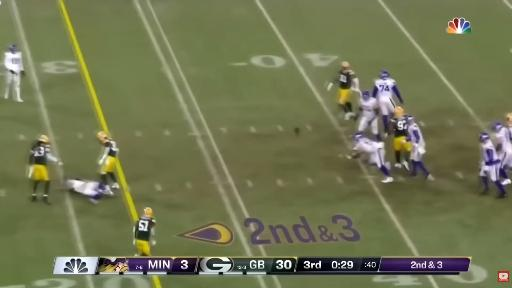Helmet: (94, 131, 108, 143), (393, 107, 405, 121), (377, 71, 390, 82), (478, 133, 490, 144), (144, 208, 155, 218), (340, 63, 351, 73), (37, 136, 50, 144), (492, 123, 502, 133), (362, 91, 371, 102), (354, 132, 363, 141), (9, 45, 19, 53), (507, 111, 511, 125)
Jersey: (354, 138, 385, 167), (480, 140, 500, 181), (30, 142, 55, 165), (134, 216, 155, 241), (375, 79, 395, 100), (482, 141, 499, 165), (408, 123, 425, 147), (4, 52, 23, 73), (496, 127, 511, 153), (360, 98, 378, 119), (354, 138, 379, 153), (338, 70, 355, 89), (392, 118, 407, 137), (104, 140, 118, 157)
Player: (28, 135, 62, 204), (347, 133, 393, 182), (373, 71, 403, 136), (327, 62, 359, 119), (405, 116, 433, 180), (479, 133, 506, 198), (391, 107, 411, 170), (357, 91, 381, 141), (98, 132, 119, 189), (492, 123, 511, 185), (4, 45, 24, 102), (67, 179, 113, 203), (134, 207, 155, 256)
